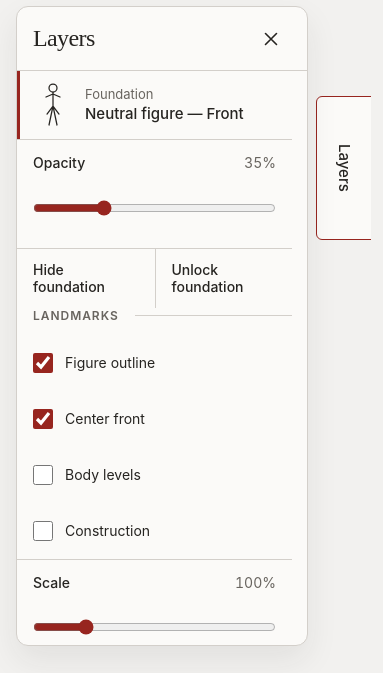
it: LayersShelf › previews opacity changes locally and journals one value per gesture
Expected: the text "Opacity" is shown, [33, 154, 85, 172]
Expected: the text "Scale" is shown, [33, 574, 70, 591]
Step 1. Set the slider named "Foundation opacity" to "0.45" → (129, 208), box [33, 180, 276, 236]
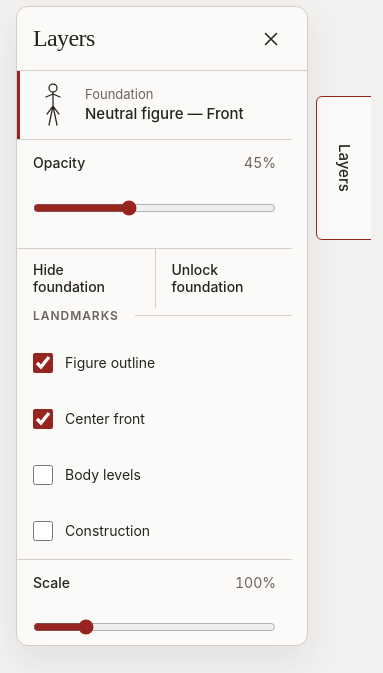
Step 2. Set the slider named "Foundation opacity" to "0.55" → (154, 208), box [33, 180, 276, 236]
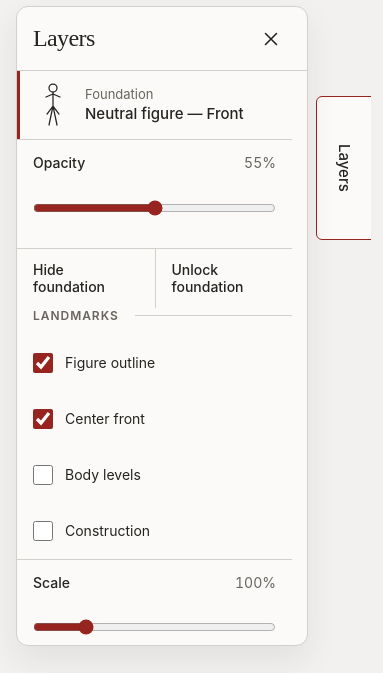
Step 3. Set the slider named "Foundation opacity" to "0.65" → (180, 208), box [33, 180, 276, 236]
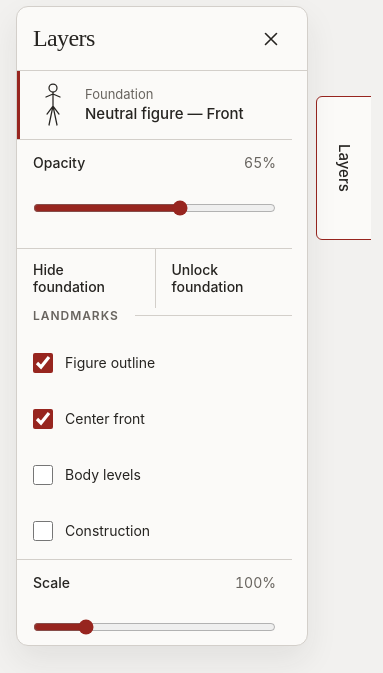
Result: the text "65%" is shown at [244, 154, 276, 172]
